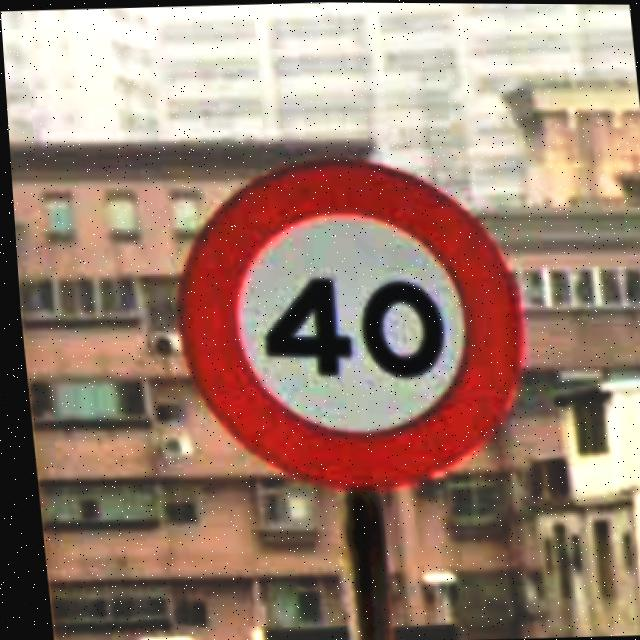max40: (155, 146, 535, 497)
